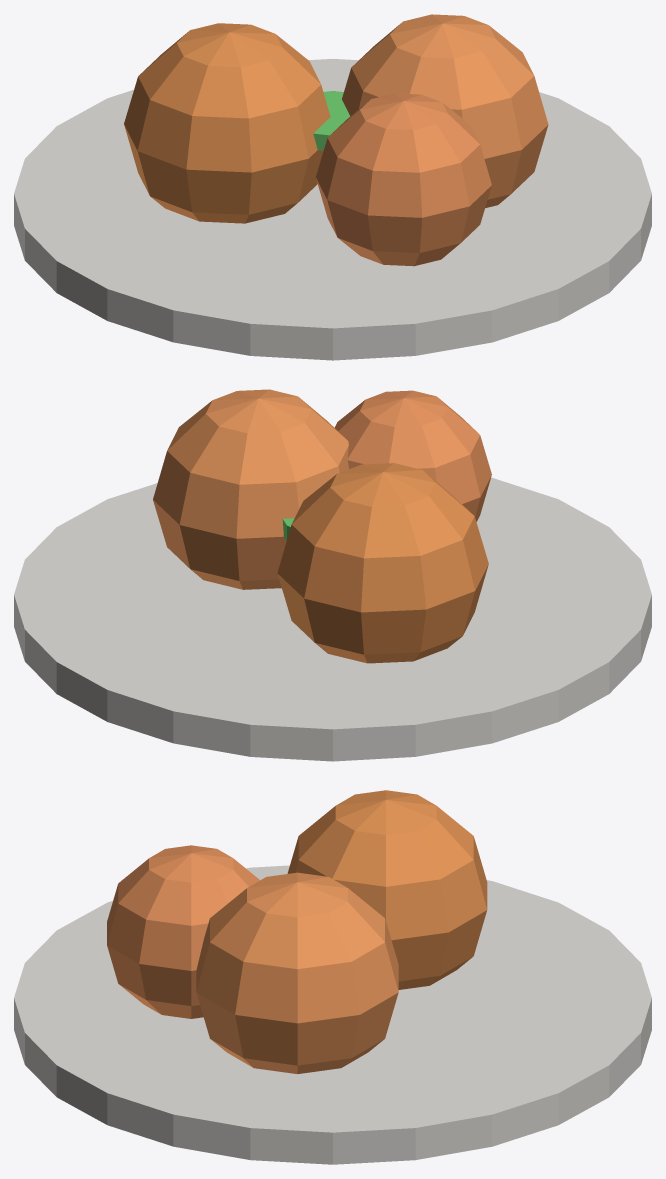
File: tandoori.glb
The picture shows the model from 3 angles, top to bottom: view 1: azimuth 30°, elevation 25°; view 2: azimuth 150°, elevation 25°; view 3: azimuth 270°, elevation 25°; orthographic projection.
Size of the model in its own units: 0.36 by 0.12 by 0.36.
